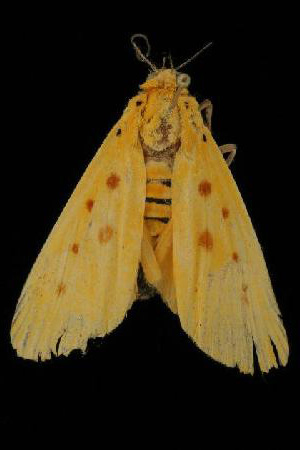Agape chloropyga: (8, 25, 290, 376)
moth: (6, 23, 288, 374)
